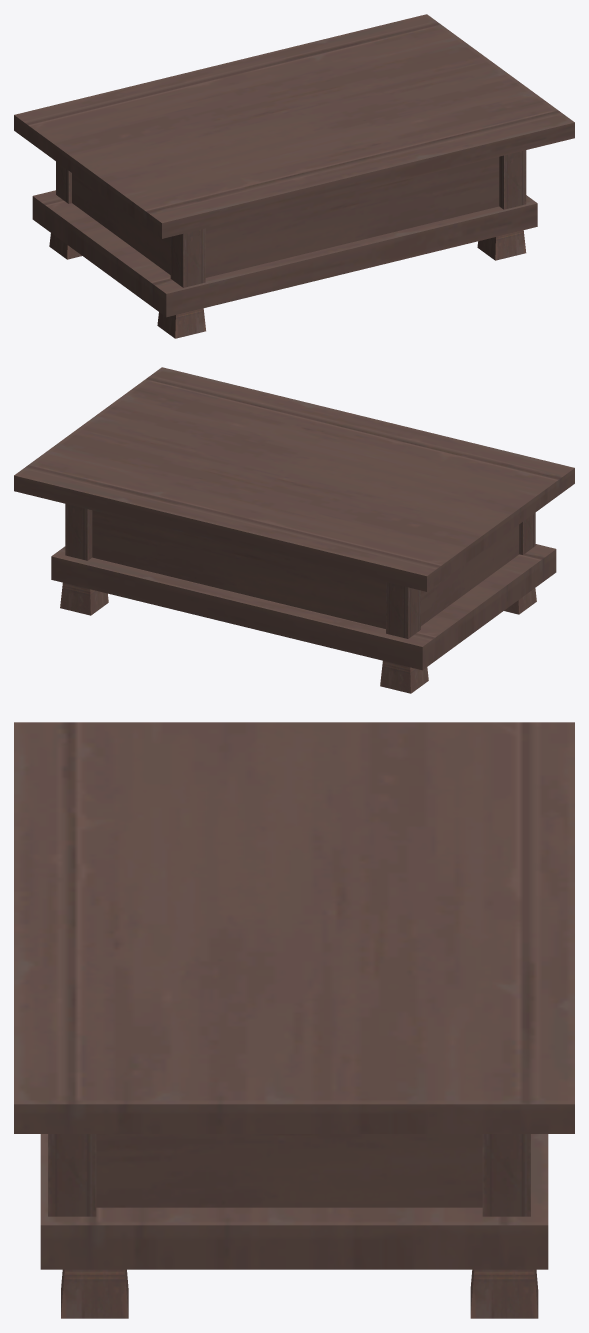
Rendered from Homeworld_Interior_Ly_Table_Table_06_Vo.fbx.
3 renders of one model, top to bottom at view 1: azimuth 30°, elevation 25°; view 2: azimuth 150°, elevation 25°; view 3: azimuth 270°, elevation 25°, orthographic. The views are drawn at different scales.
Parts seen in each view (by area): view 1: Homeworld_Interior_Ly_Table_Table_06_Vo; view 2: Homeworld_Interior_Ly_Table_Table_06_Vo; view 3: Homeworld_Interior_Ly_Table_Table_06_Vo.
Boxes of the visible parts, x1=… form: Homeworld_Interior_Ly_Table_Table_06_Vo: x1=14, y1=14, x2=574, y2=338; Homeworld_Interior_Ly_Table_Table_06_Vo: x1=14, y1=367, x2=574, y2=693; Homeworld_Interior_Ly_Table_Table_06_Vo: x1=14, y1=722, x2=574, y2=1318.
Bounding box in the file's own units: 2.32 × 0.7025 × 1.44.
